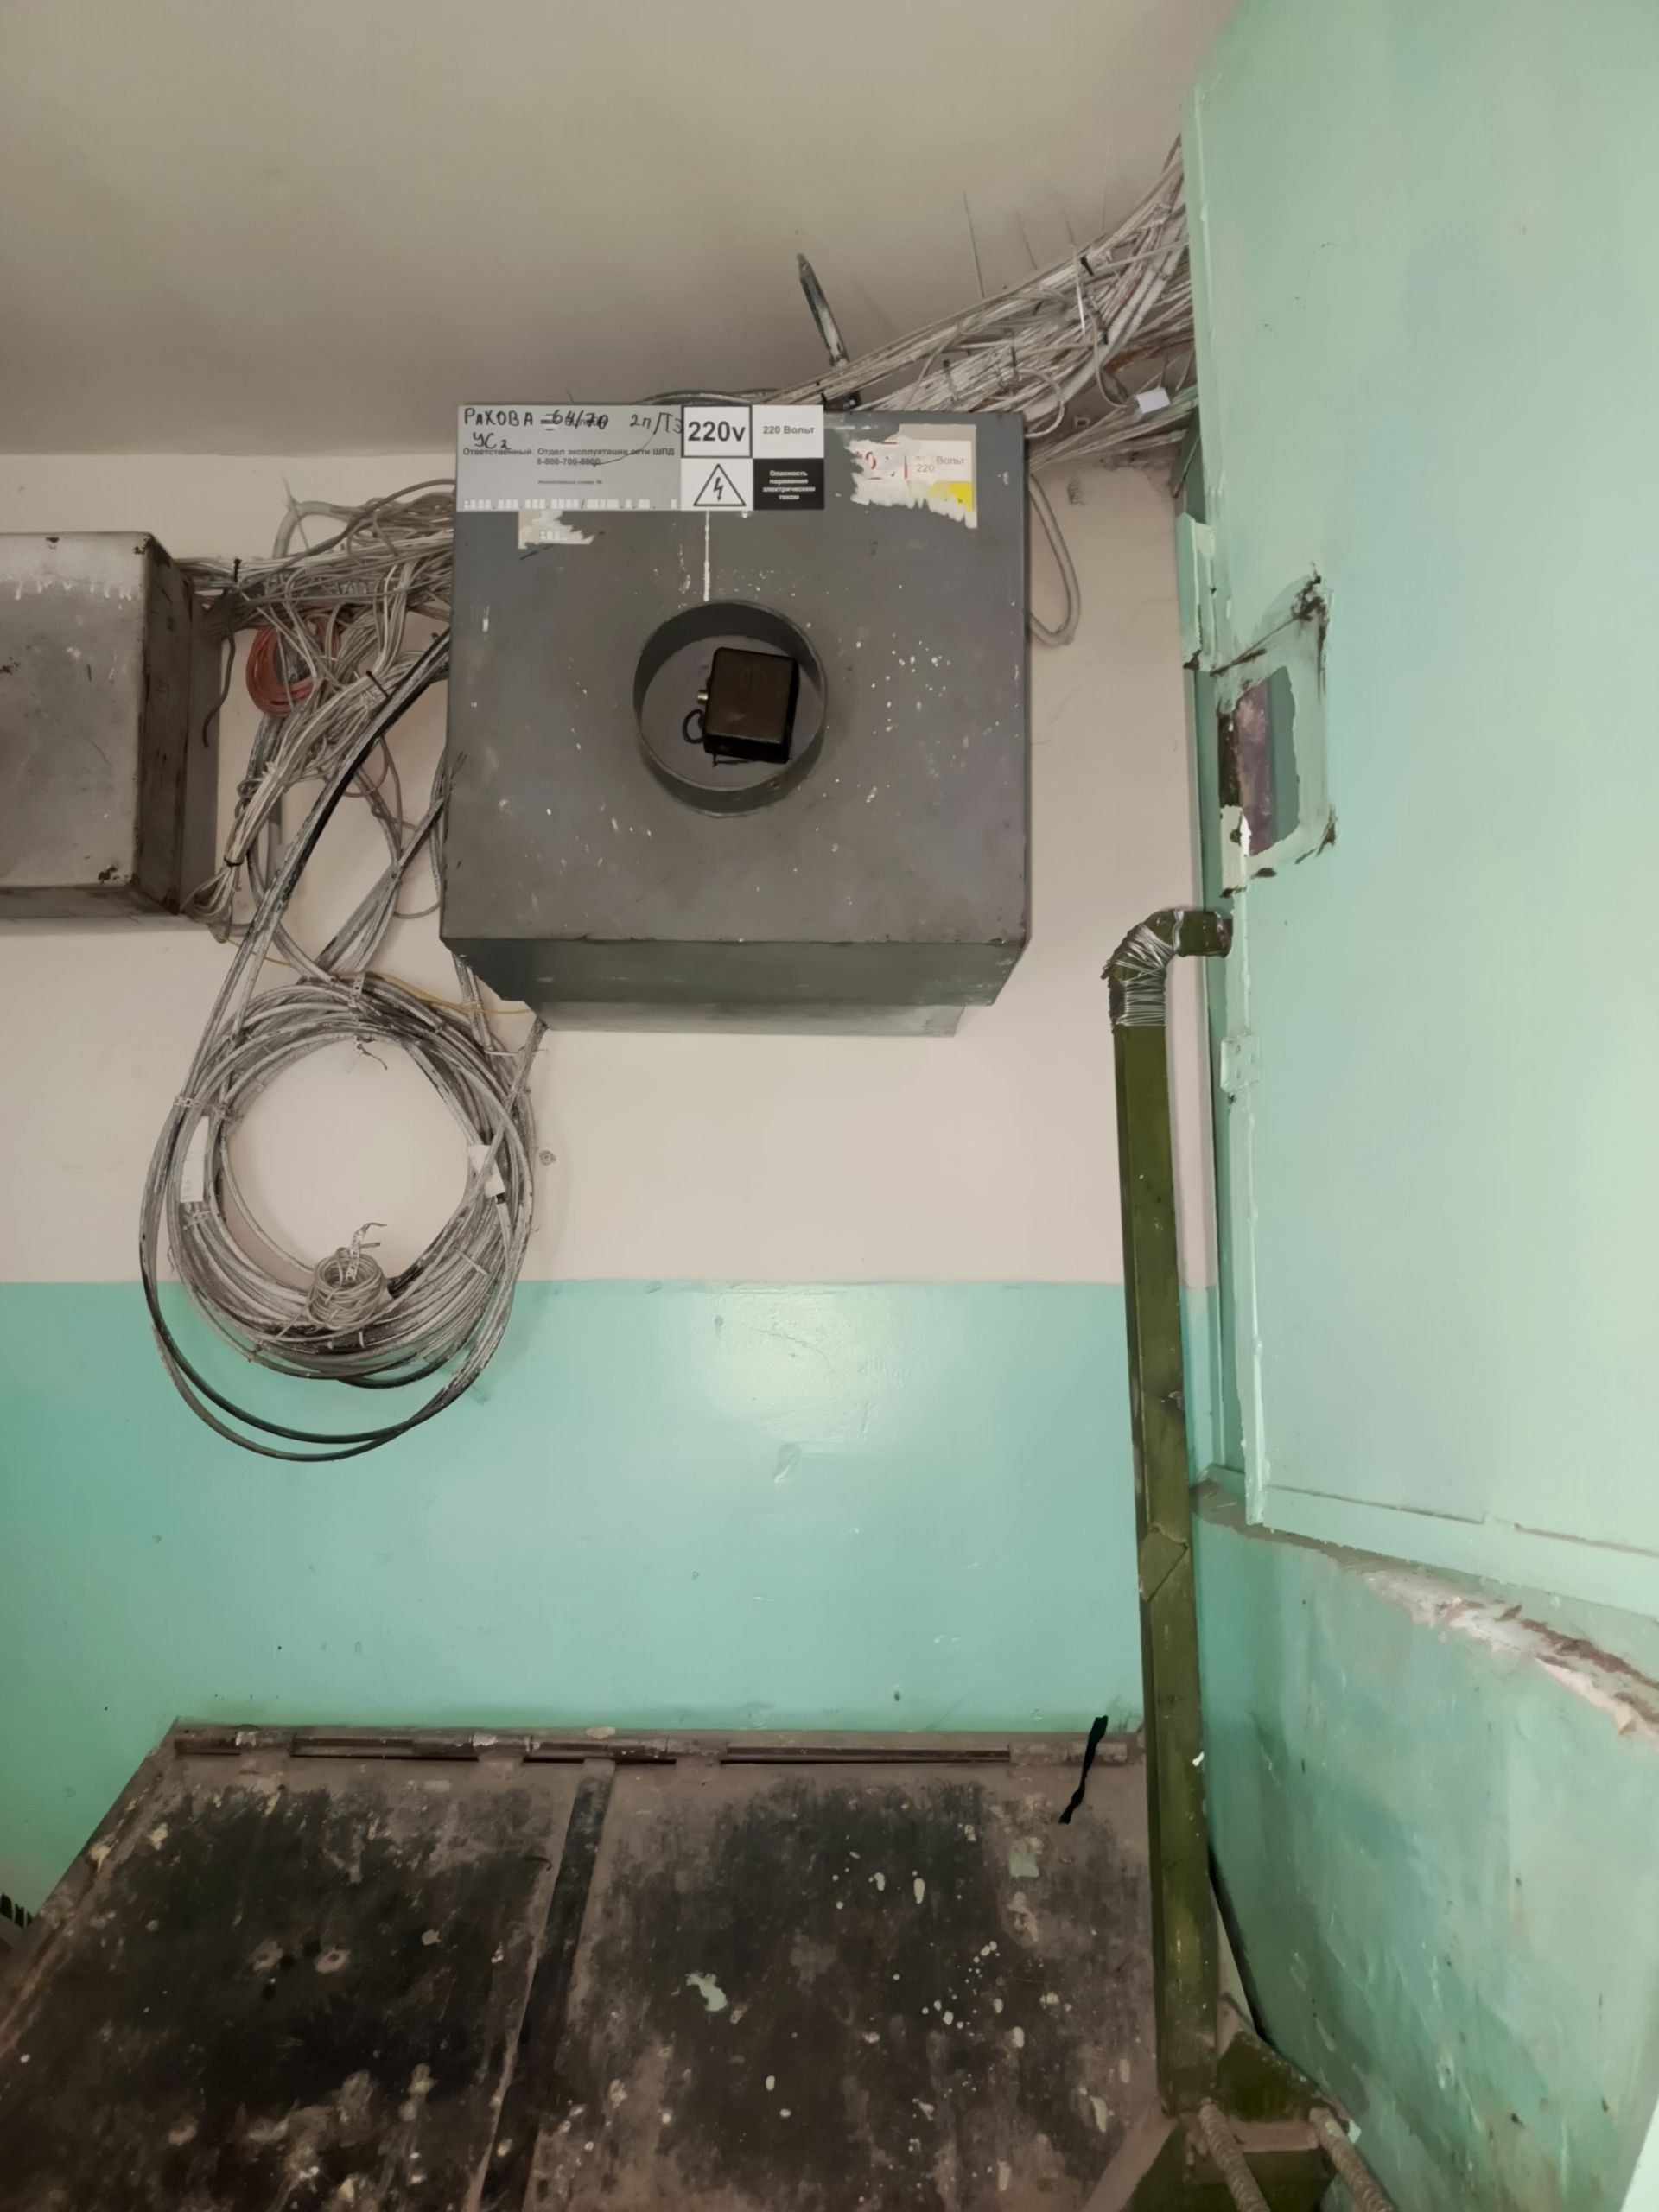shta-9: (425, 369, 1054, 1038)
